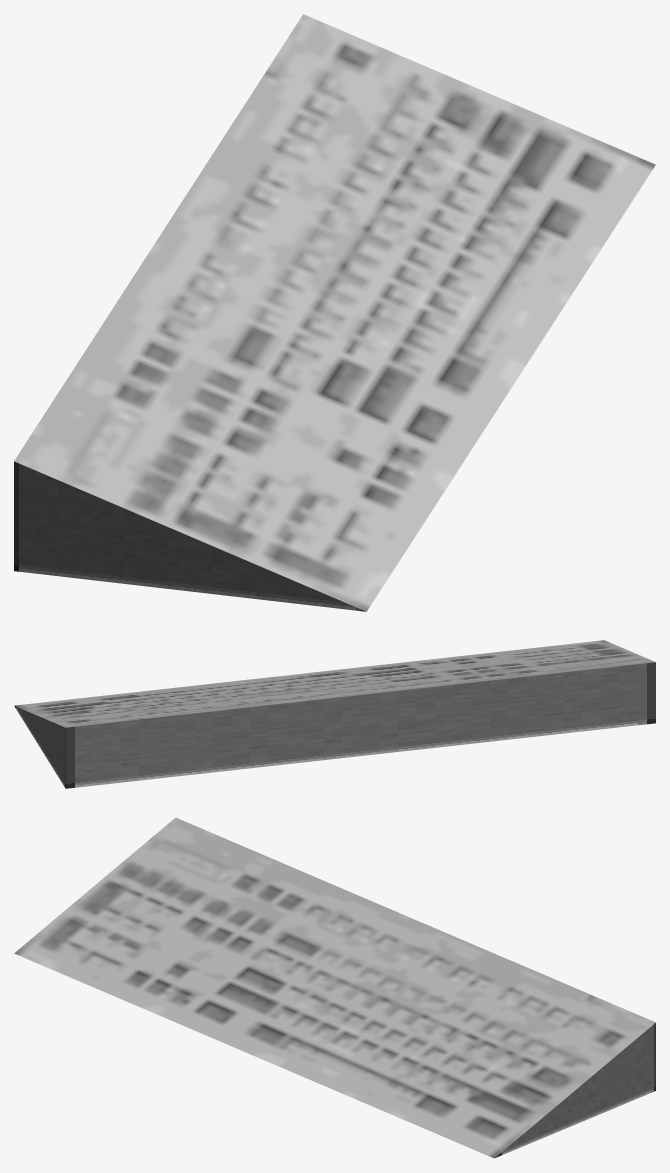
Rendered from primary_052.glb.
3 renders of one model, top to bottom at view 1: azimuth 30°, elevation 25°; view 2: azimuth 150°, elevation 25°; view 3: azimuth 270°, elevation 25°, orthographic. The views are drawn at different scales.
Visible parts, largest first — view 1: Object; view 2: Object; view 3: Object.
Part boxes in pixels (x1,y1,x2,y2): Object: [14, 14, 655, 611]; Object: [14, 640, 655, 788]; Object: [14, 817, 655, 1158].
Size of the model in its own units: 0.5612 by 0.0656 by 0.5583.
Materials: 4 (4 with a texture image).
